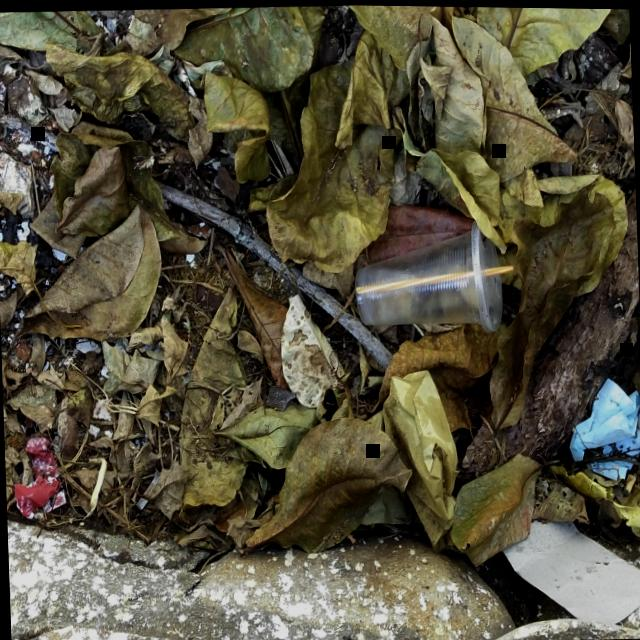Cigarette: (622, 470, 636, 492)
Disposable plastic cup: (355, 219, 502, 330)
Normal paper: (569, 375, 640, 477)
Other carton: (502, 518, 640, 621)
Paper bag: (367, 368, 459, 542)
Plastic lid: (471, 218, 502, 330)
Plastic straw: (355, 262, 513, 293)
Tissues: (14, 435, 66, 520)
